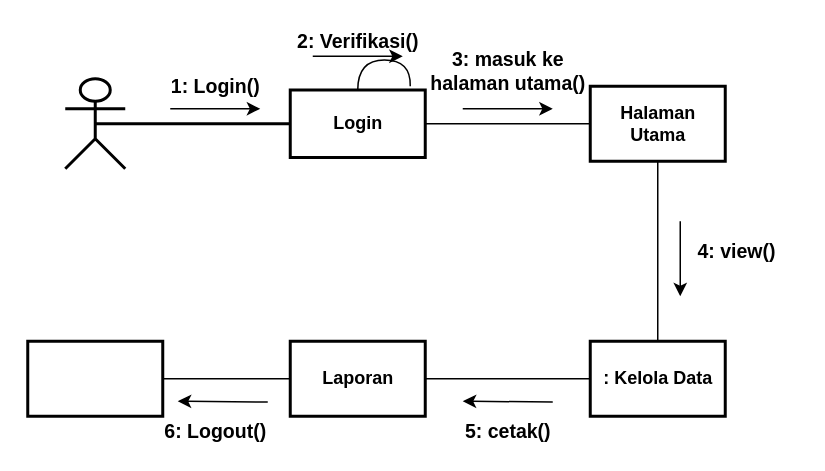
This 825x471 diagram has some shape labels left out. The shapes that lost their labels are listed below. From the top down, each one's centre as x and y in pixels, then its label:
At (94,123): "Admin".
At (95,378): "Logout".
